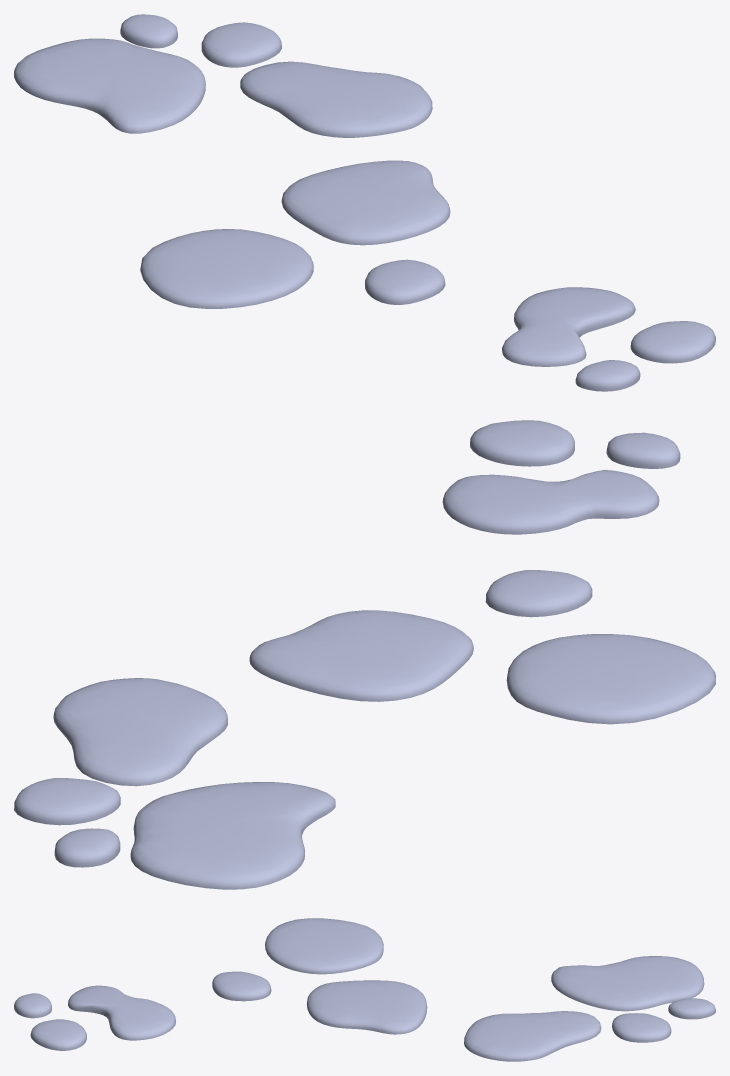
The model's file is stone.glb.
3 renders of one model, top to bottom at view 1: azimuth 30°, elevation 25°; view 2: azimuth 150°, elevation 25°; view 3: azimuth 270°, elevation 25°, orthographic. The views are drawn at different scales.
Parts seen in each view (by area): view 1: Stones, Stones.001; view 2: Stones, Stones.001; view 3: Stones, Stones.001.
Part boxes in pixels (box(x1,y1,x2,y2)): Stones: box(14, 14, 715, 391); Stones.001: box(281, 160, 450, 245); Stones: box(14, 420, 715, 889); Stones.001: box(249, 610, 473, 701); Stones: box(14, 918, 715, 1061); Stones.001: box(306, 980, 427, 1034).
Size of the model in its own units: 3.23 by 0.0936 by 6.84.
